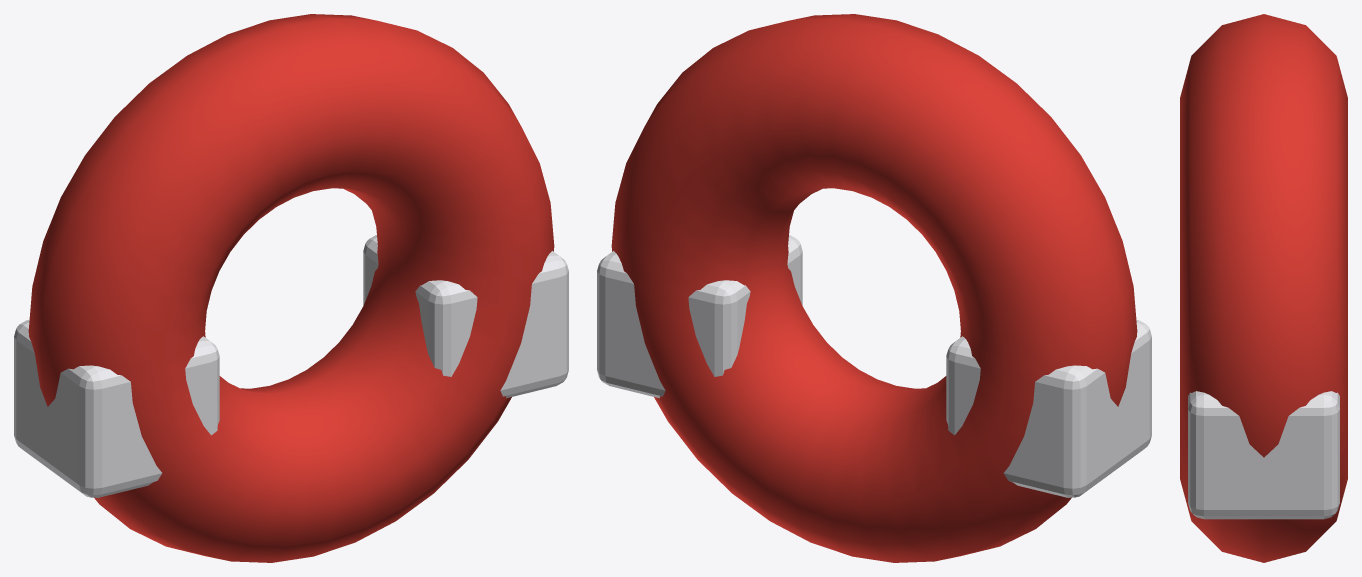
Rendered from magnet.glb.
3 views of the same model, side by side, from view 1: azimuth 30°, elevation 25°; view 2: azimuth 150°, elevation 25°; view 3: azimuth 270°, elevation 25° (orthographic). The views are drawn at different scales.
Parts seen in each view (by area): view 1: MagnetU, MagnetTip, MagnetTip.001; view 2: MagnetU, MagnetTip, MagnetTip.001; view 3: MagnetU, MagnetTip.001.
Boxes of the visible parts, x1,y1,x2,y2 form: MagnetU: [28, 14, 554, 562]; MagnetTip: [14, 319, 219, 497]; MagnetTip.001: [363, 235, 568, 398]; MagnetU: [611, 14, 1137, 562]; MagnetTip: [946, 319, 1151, 497]; MagnetTip.001: [597, 235, 802, 398]; MagnetU: [1180, 14, 1347, 562]; MagnetTip.001: [1188, 391, 1339, 519].
Size of the model in its own units: 0.69 by 0.69 by 0.21.
